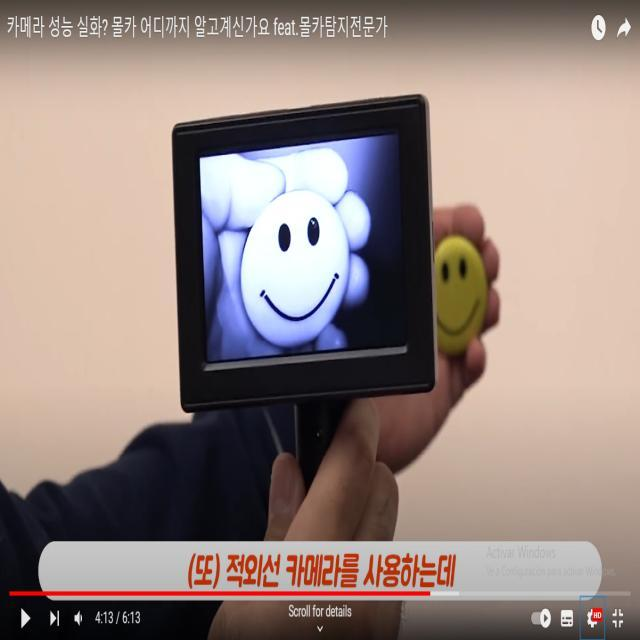hidden camera: (308, 217, 319, 234)
